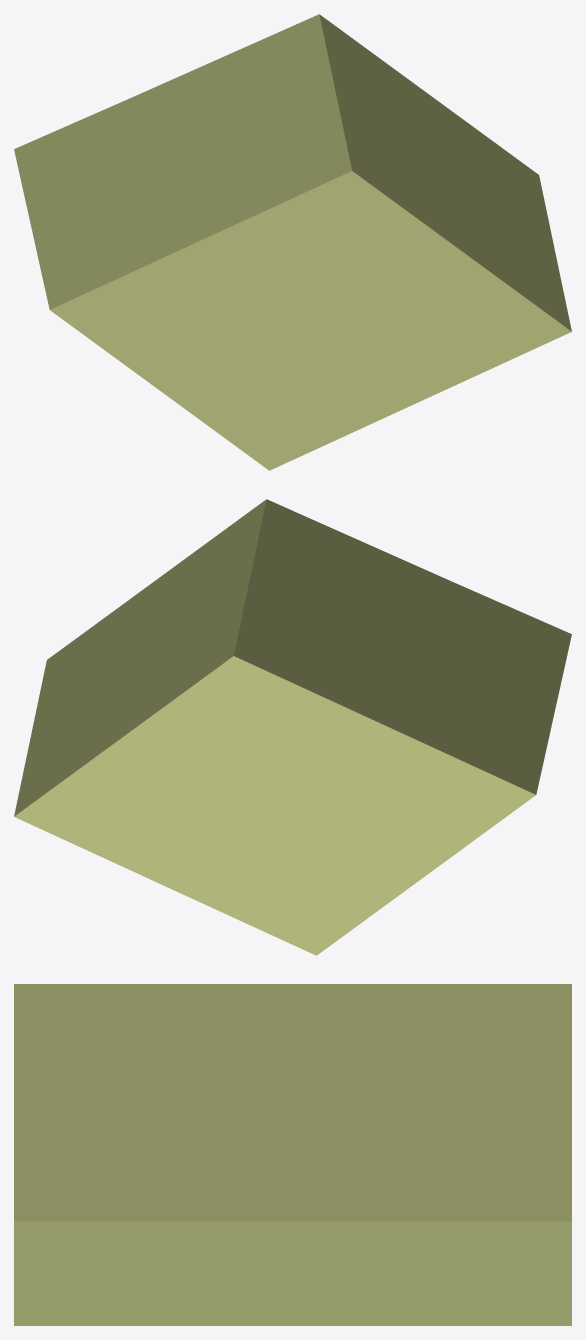
3 renders of one model, top to bottom at view 1: azimuth 30°, elevation 25°; view 2: azimuth 150°, elevation 25°; view 3: azimuth 270°, elevation 25°, orthographic. The views are drawn at different scales.
Parts seen in each view (by area): view 1: 0_1_2_0_3_3_0_3_1_0_1; view 2: 0_1_2_0_3_3_0_3_1_0_1; view 3: 0_1_2_0_3_3_0_3_1_0_1.
Boxes of the visible parts, x1,y1,x2,y2 form: 0_1_2_0_3_3_0_3_1_0_1: (14,14,571,470); 0_1_2_0_3_3_0_3_1_0_1: (14,499,571,955); 0_1_2_0_3_3_0_3_1_0_1: (14,984,571,1325).
Size of the model in its own units: 8 by 5.2 by 9.
